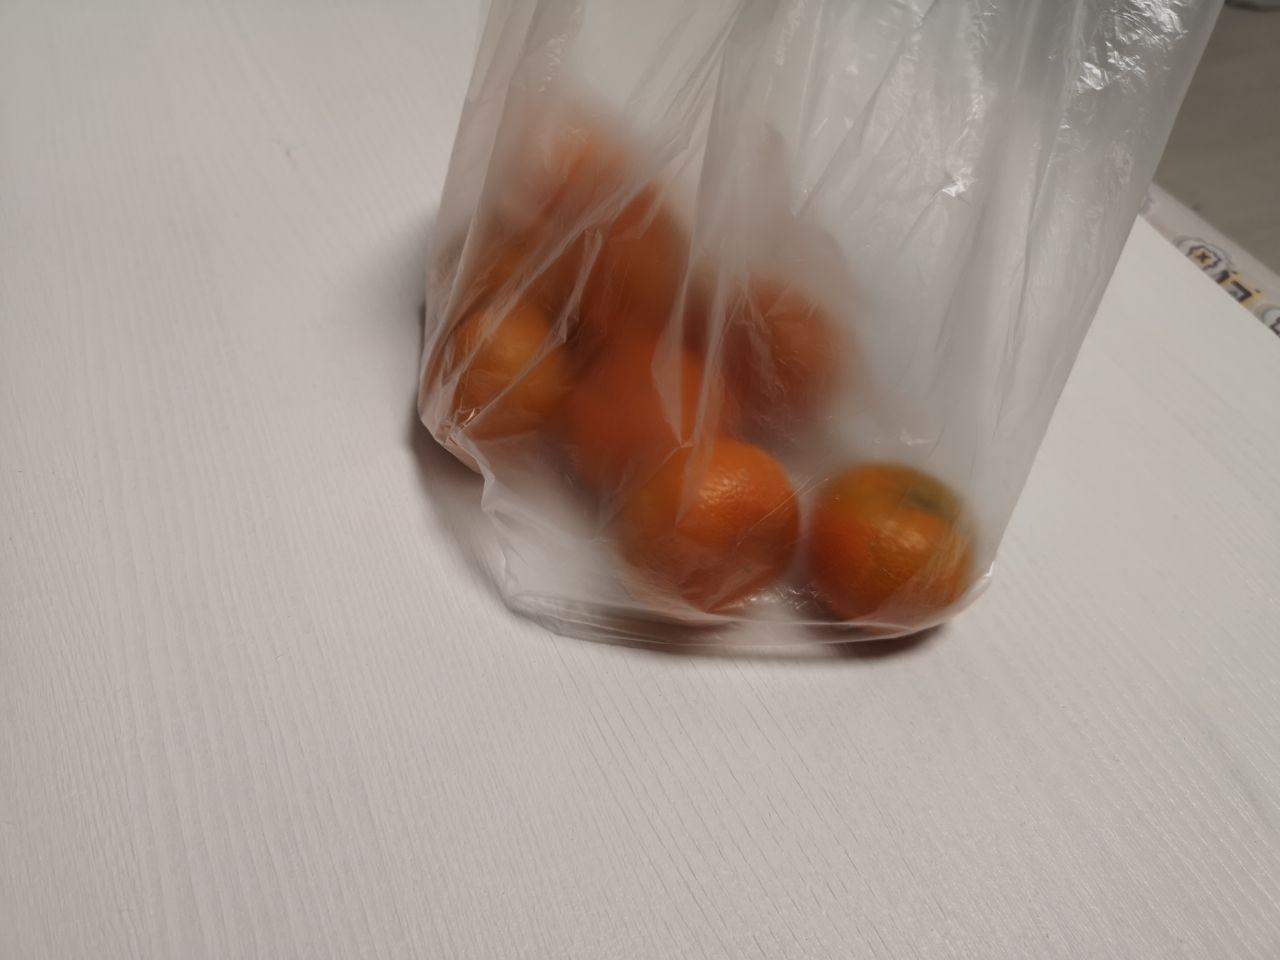clementin: (406, 64, 981, 652)
